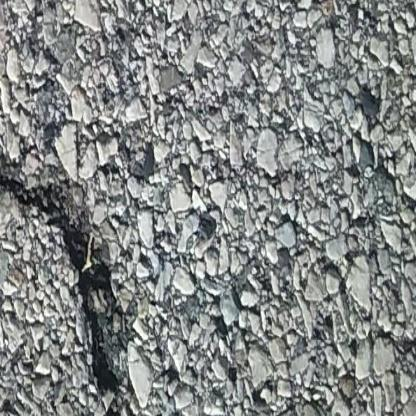Cracks: (0, 139, 139, 416)
